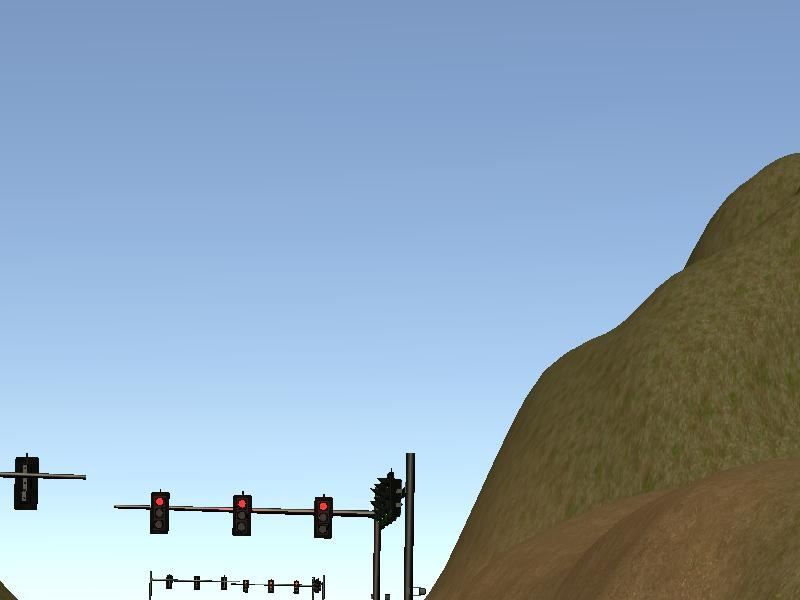Red: (312, 493, 333, 539), (231, 492, 252, 538), (149, 490, 170, 536)
